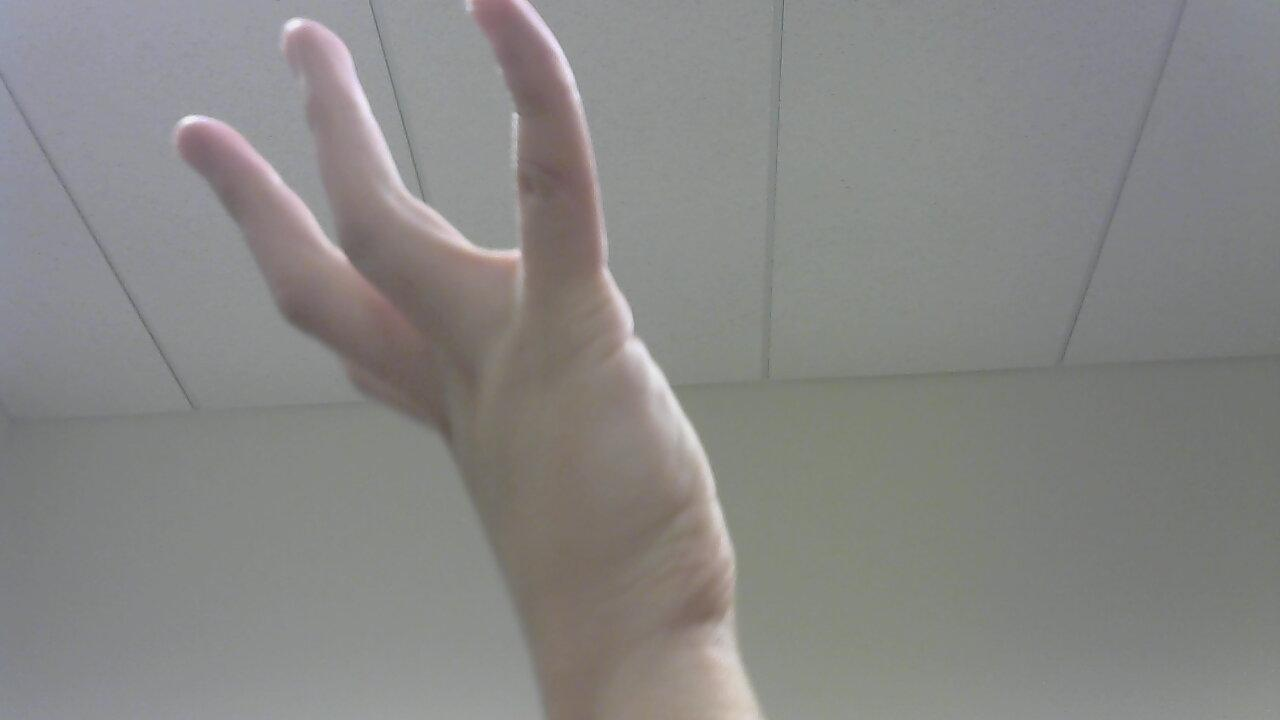hands: (151, 14, 850, 633)
